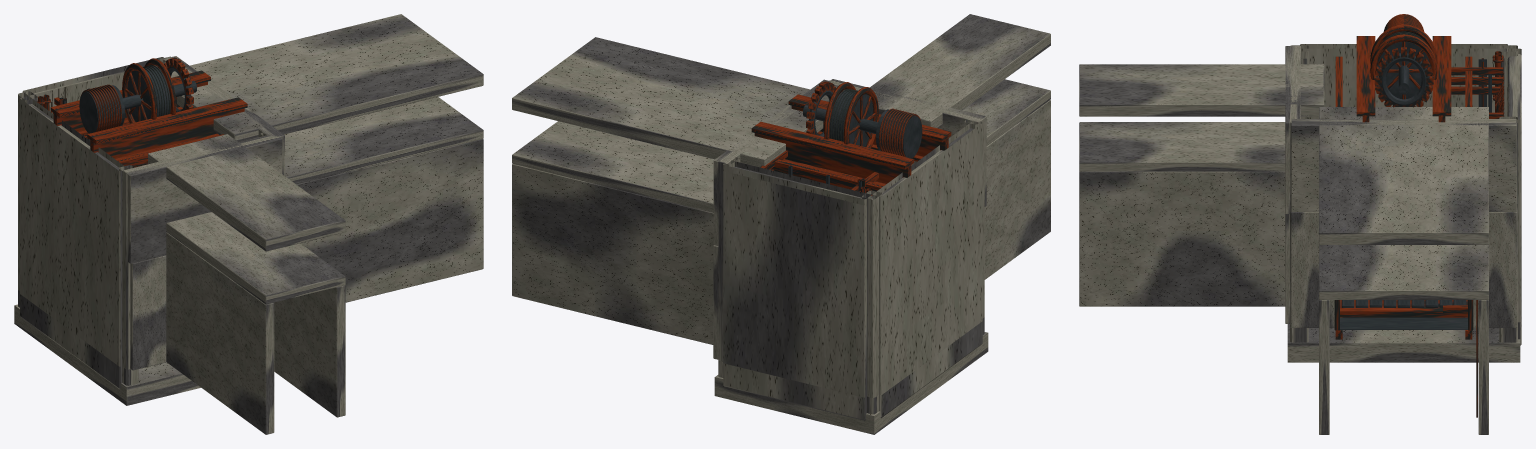
The model's file is lift.glb.
The picture shows the model from 3 angles, left to right: view 1: azimuth 30°, elevation 25°; view 2: azimuth 150°, elevation 25°; view 3: azimuth 270°, elevation 25°; orthographic projection. The views are drawn at different scales.
Parts seen in each view (by area): view 1: LIFT_LEVEL, LIFT_SHAFT_MID, LIFT_SHAFT_TOP, LIFT_SHAFT_BOTTOM; view 2: LIFT_LEVEL, LIFT_SHAFT_TOP, LIFT_SHAFT_MID, LIFT_SHAFT_BOTTOM; view 3: LIFT_LEVEL, LIFT_SHAFT_TOP, LIFT_SHAFT_BOTTOM, LIFT_SHAFT_MID, LIFT_CAGE_DECK.
Part boxes in pixels (x1,y1,x2,y2): LIFT_LEVEL: (123,14,483,434); LIFT_SHAFT_MID: (18,57,263,368); LIFT_SHAFT_TOP: (29,57,247,369); LIFT_SHAFT_BOTTOM: (14,56,262,405); LIFT_LEVEL: (512,14,1050,359); LIFT_SHAFT_TOP: (723,81,973,397); LIFT_SHAFT_MID: (718,80,984,397); LIFT_SHAFT_BOTTOM: (714,87,988,434); LIFT_LEVEL: (1079,46,1517,434); LIFT_SHAFT_TOP: (1290,14,1521,324); LIFT_SHAFT_BOTTOM: (1287,44,1521,362); LIFT_SHAFT_MID: (1290,44,1521,324); LIFT_CAGE_DECK: (1340,300,1467,317).
Bounding box in the file's own units: 8.39 × 6.78 × 8.31.
9 materials, 4 textured.
